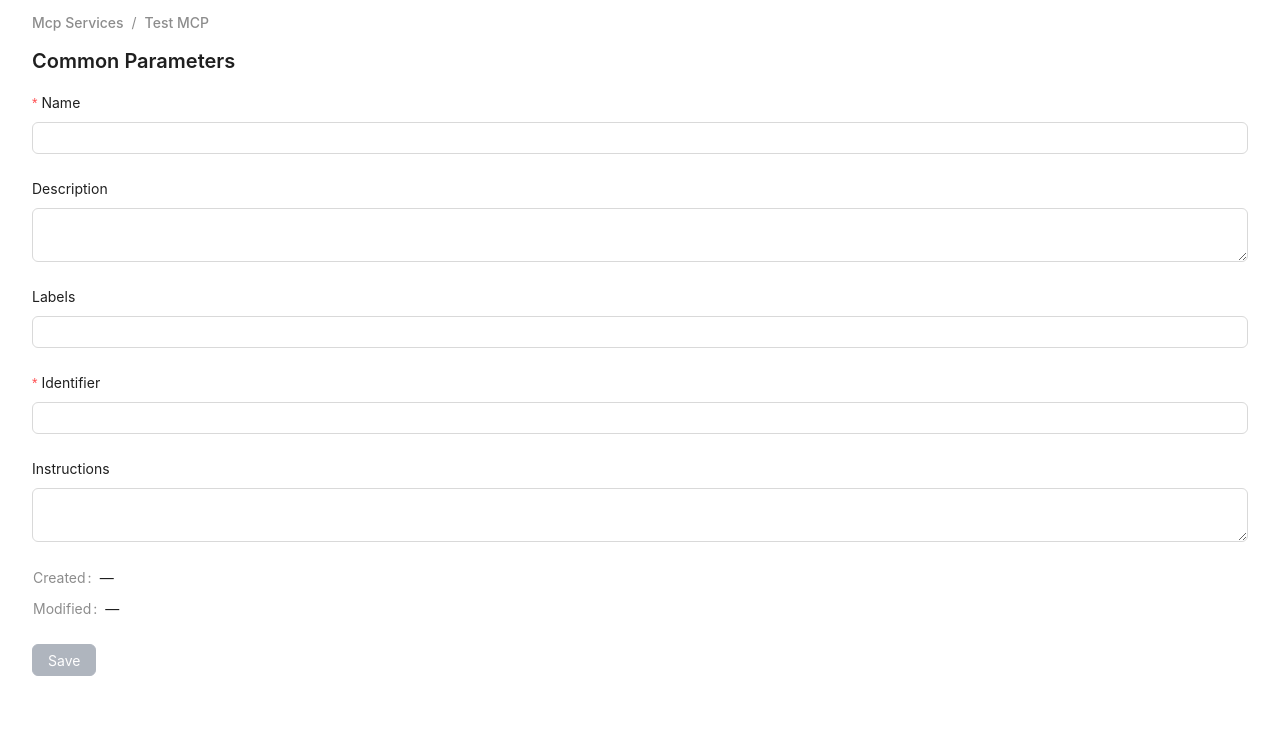
Test: McpServiceParametersPage › should show a validation error when Identifier is empty on submit
// Enable Save by triggering onChange via the Name field
In the field labelled "Name": (640, 138) x1=32 y1=122 x2=1248 y2=154, type "trigger"
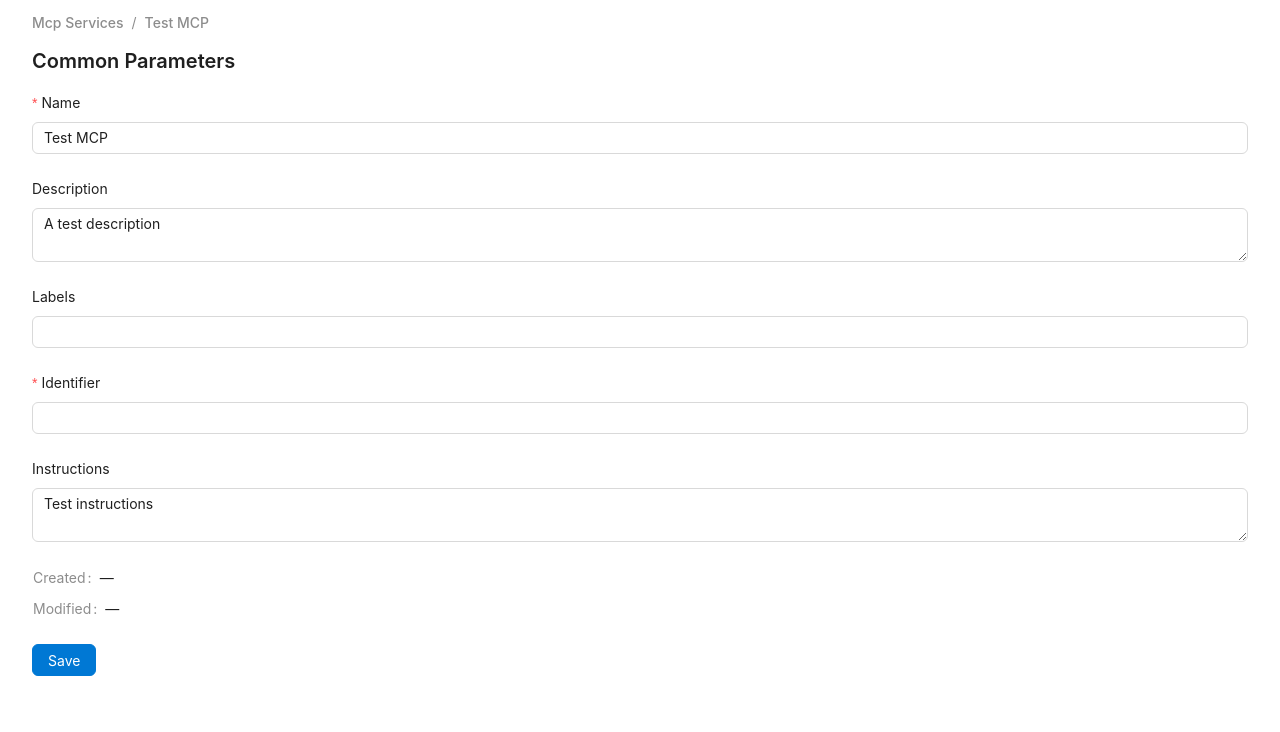
Click the button "Save": click(64, 660) x1=32 y1=644 x2=96 y2=676
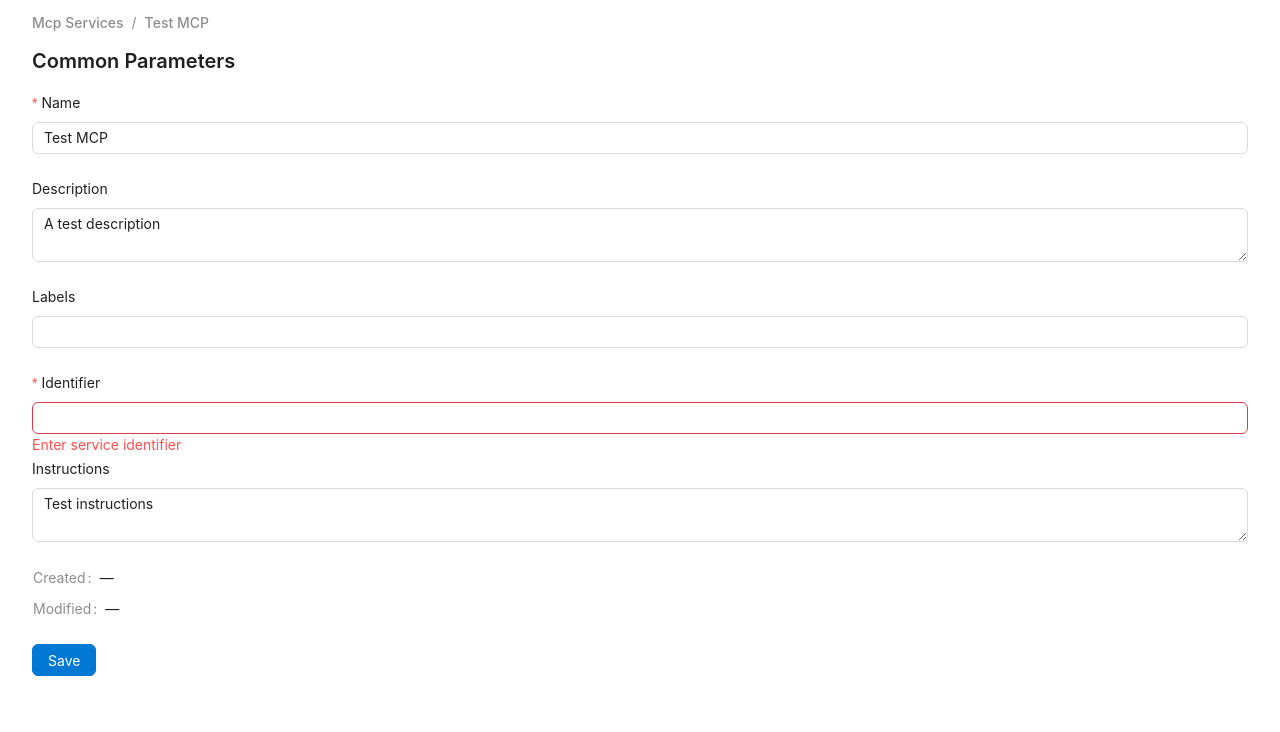
Now the text "Enter service identifier" is shown, box x1=32 y1=436 x2=181 y2=453
